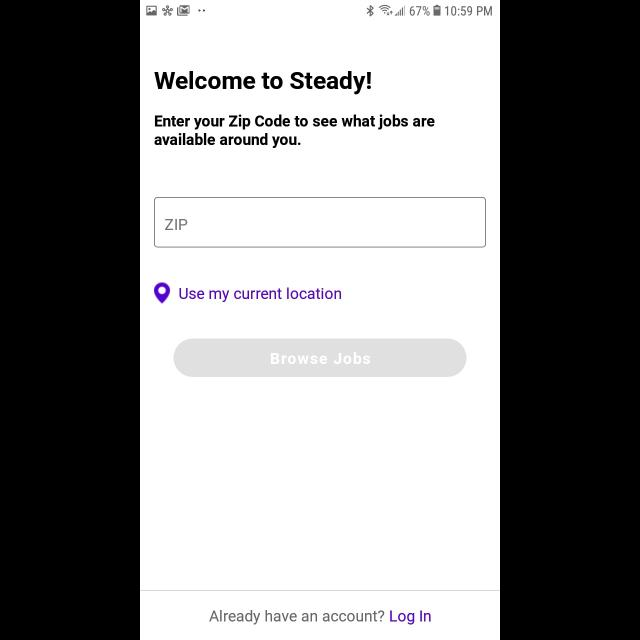icon: (154, 283, 170, 305)
input: (154, 198, 486, 248)
text: (155, 115, 435, 149), (154, 71, 372, 95), (209, 610, 431, 624), (179, 288, 341, 302), (165, 220, 188, 230)
textbutton: (174, 338, 466, 378)
uppertaskbar: (140, 1, 500, 18)
